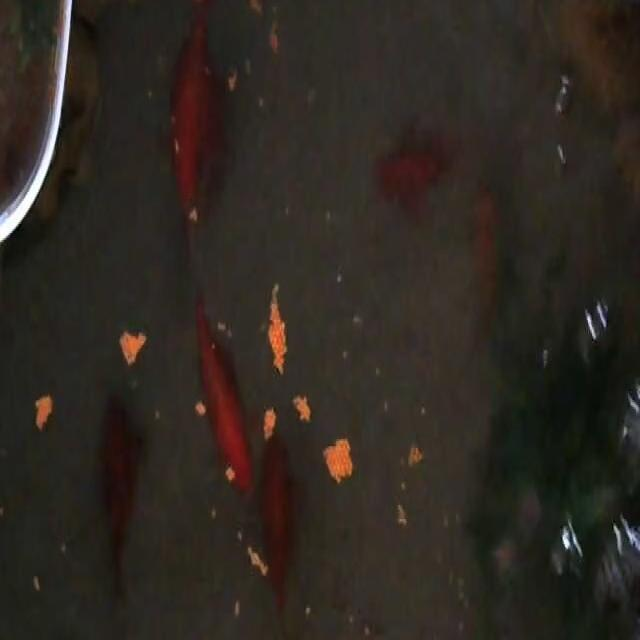fish: (169, 0, 235, 229), (194, 294, 256, 502), (99, 392, 147, 602), (258, 423, 299, 625), (373, 122, 461, 212), (469, 184, 500, 326)
